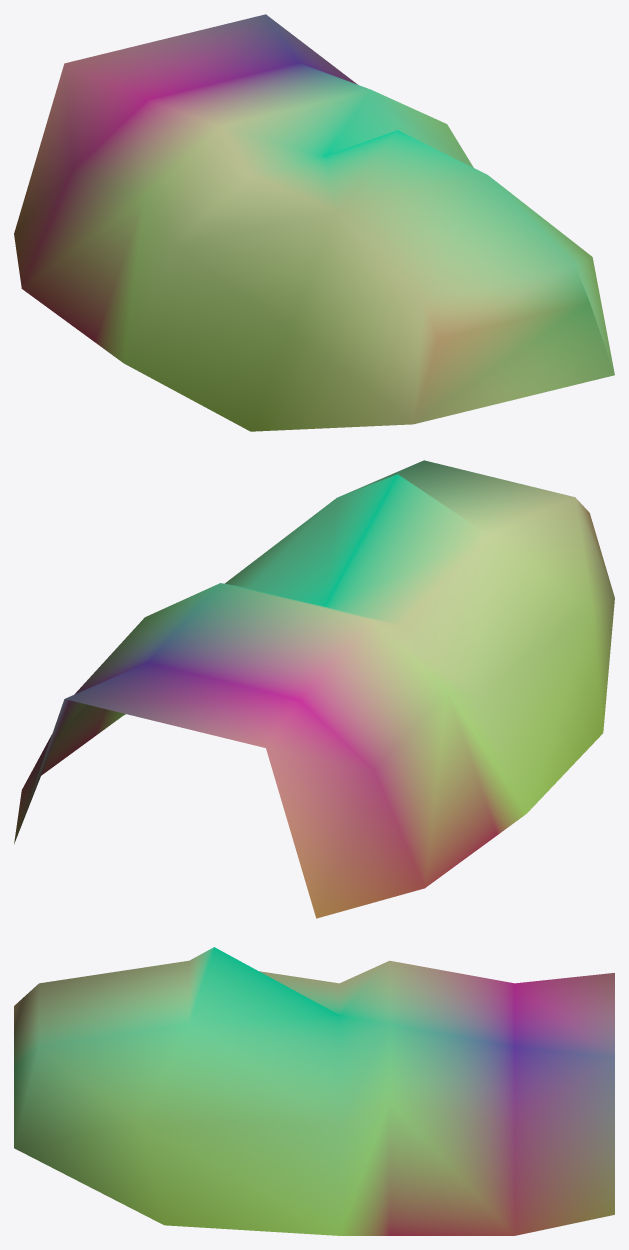
3 renders of one model, top to bottom at view 1: azimuth 30°, elevation 25°; view 2: azimuth 150°, elevation 25°; view 3: azimuth 270°, elevation 25°, orthographic. The views are drawn at different scales.
Parts seen in each view (by area): view 1: part; view 2: part; view 3: part.
Part boxes in pixels (x1,y1,x2,y2): part: [14, 14, 614, 431]; part: [14, 460, 614, 918]; part: [14, 947, 614, 1235].
Bounding box in the file's own units: 16 × 9 × 24.
